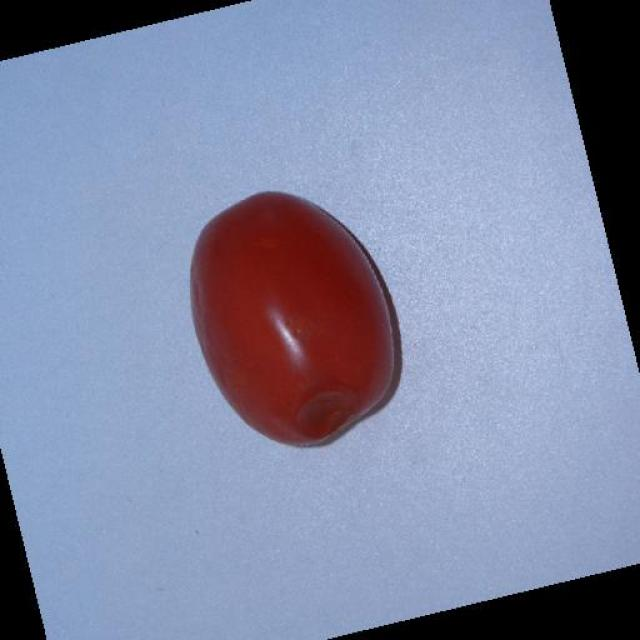Stale_tomato: (178, 178, 420, 450)
